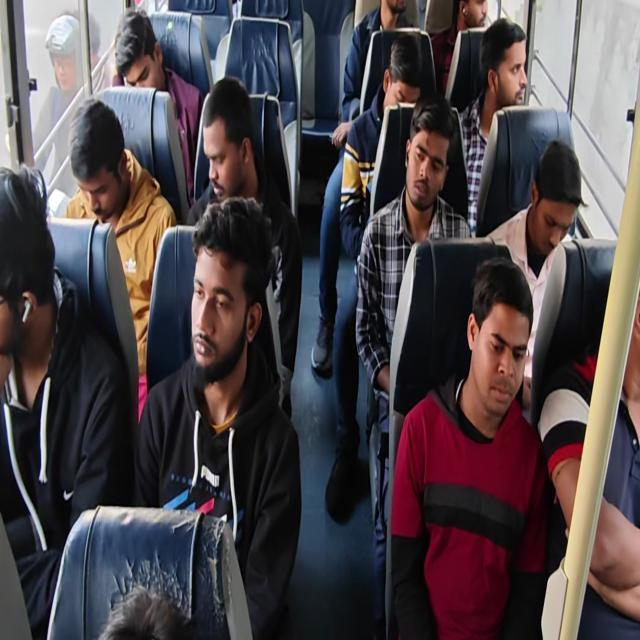person: (1, 1, 638, 638), (134, 195, 302, 638), (354, 94, 472, 637), (0, 163, 132, 637), (389, 255, 552, 638), (185, 75, 303, 420), (311, 0, 418, 378), (64, 98, 177, 424), (538, 274, 639, 638), (483, 138, 586, 416), (338, 34, 424, 264), (113, 8, 204, 202), (458, 17, 528, 235), (332, 0, 417, 150), (32, 13, 100, 192), (429, 0, 488, 96), (98, 585, 197, 639)
